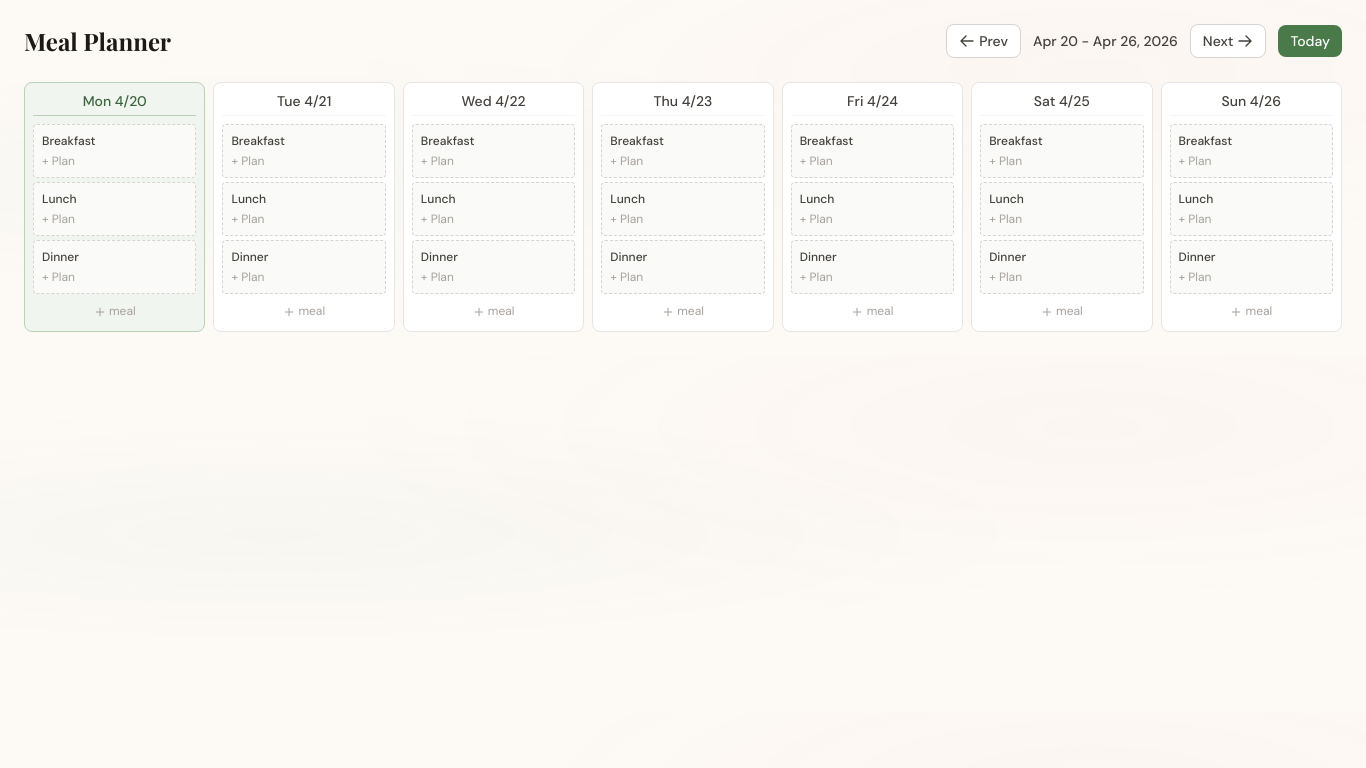
Test: MealPlanner — plan a meal on a day slot › creates a meal from an empty slot, closes the editor, and renders it back in the grid
Click the button "Dinner + Plan" below "Mon 4/20". click: x=115, y=267
box: [33,240,196,294]
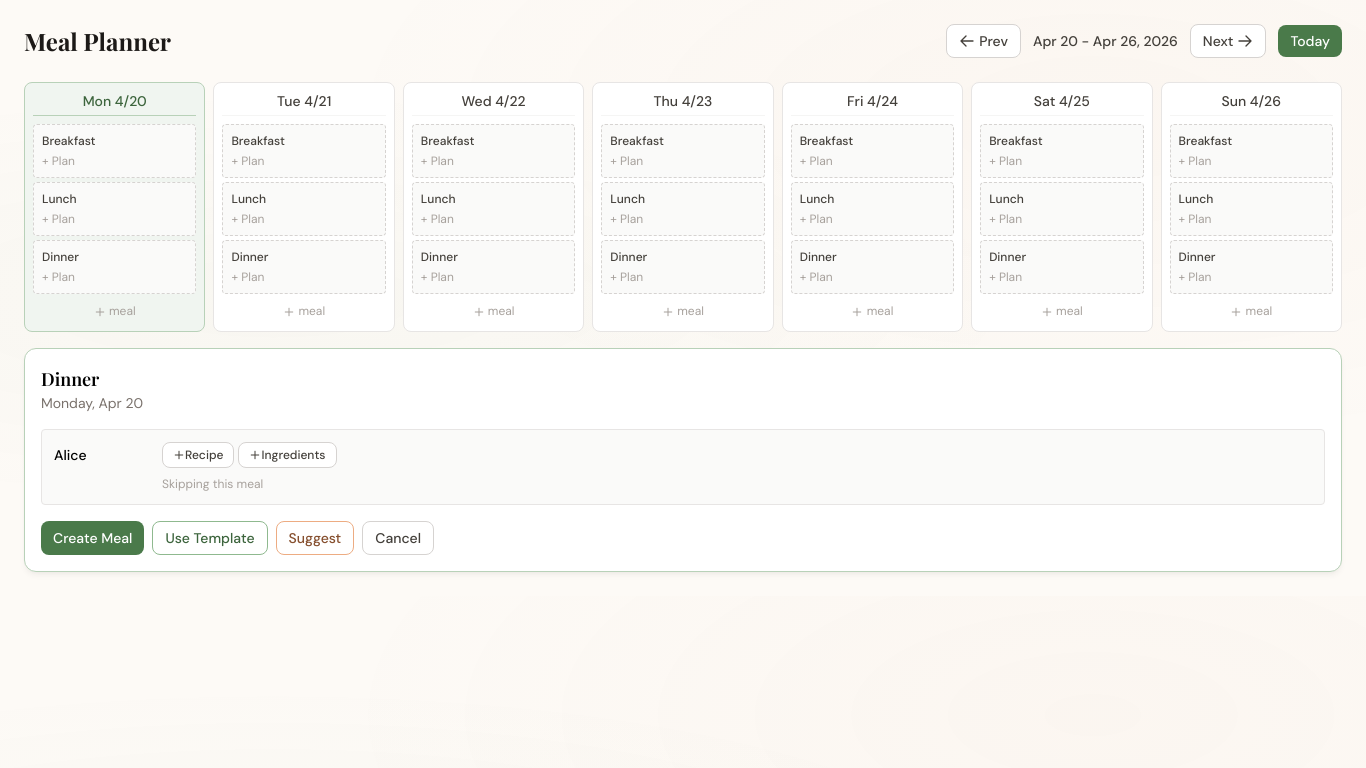
Expected: the button "Create Meal" is shown, [41,521,144,555]
Click the button "Recipe". click: x=198, y=455
box: [162,442,234,468]
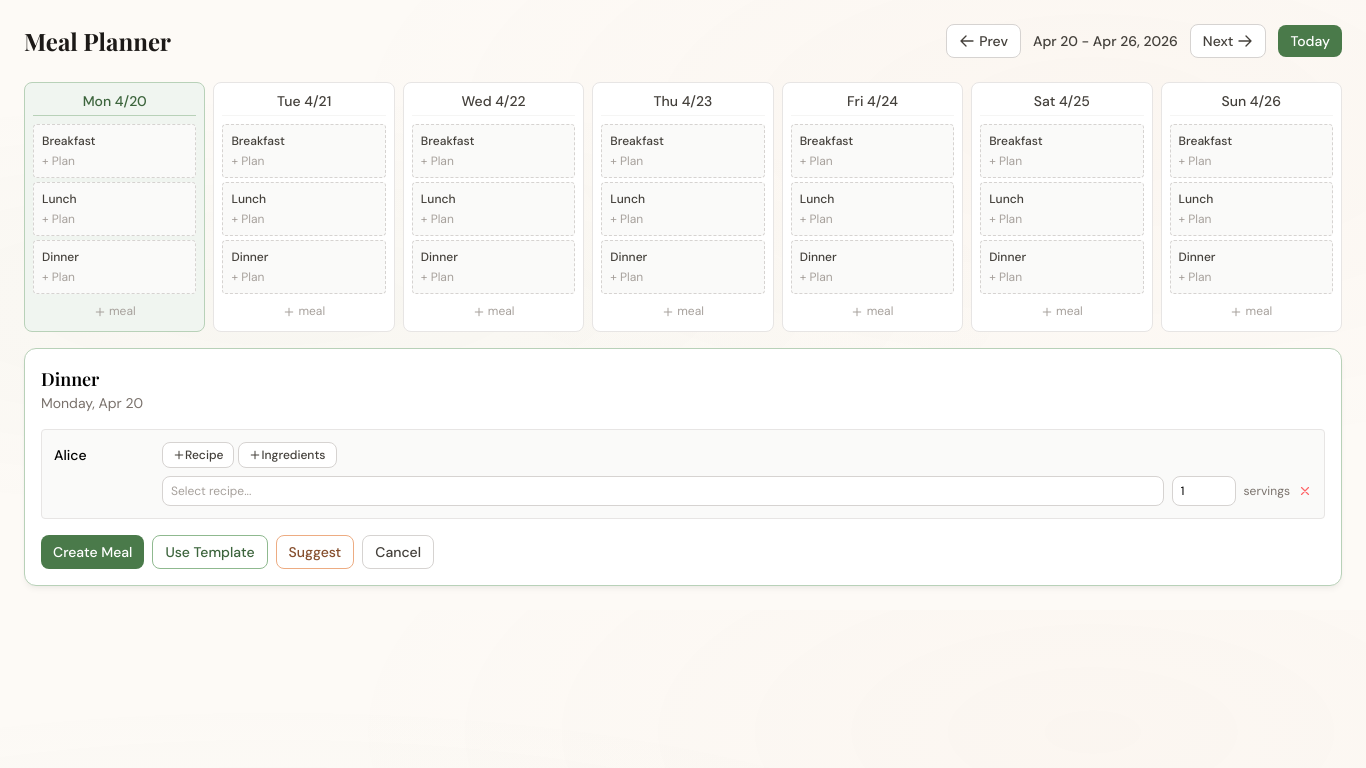
Pick Pasta in the recipe combobox (only combobox on the screen).
Focus the dropdown. click: x=663, y=491
box: [162,476,1164,506]
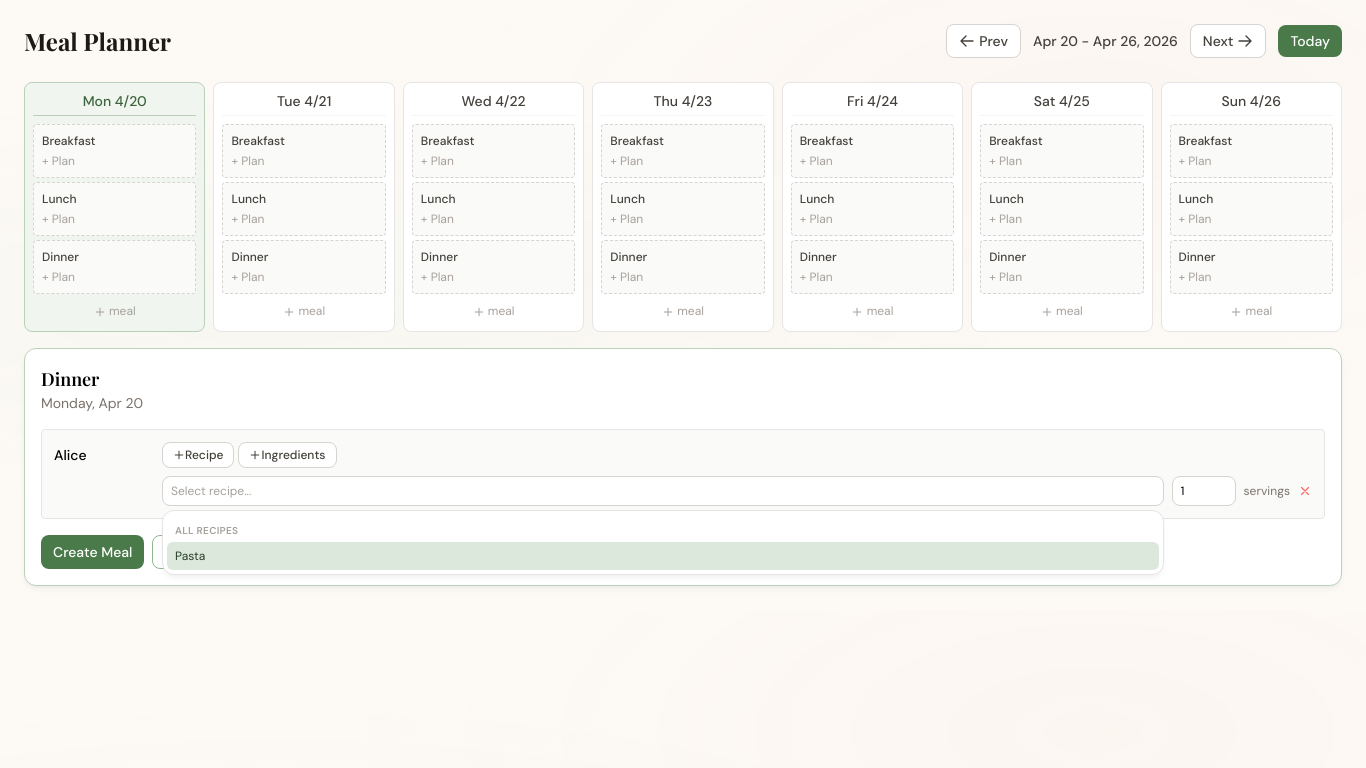
Click the option "Pasta". click: x=190, y=556
box: [167,542,1159,570]
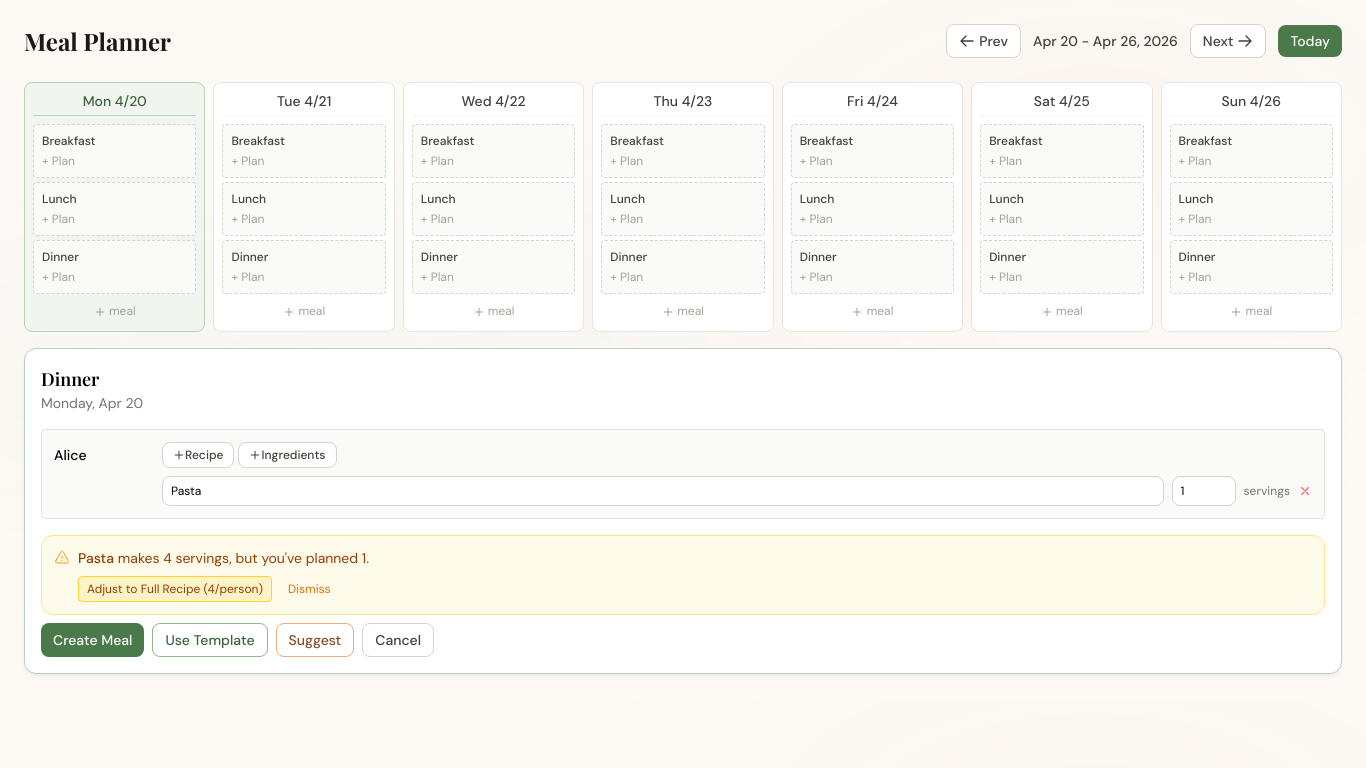
Click the button "Create Meal". click: x=93, y=640
box: [41,623,144,657]
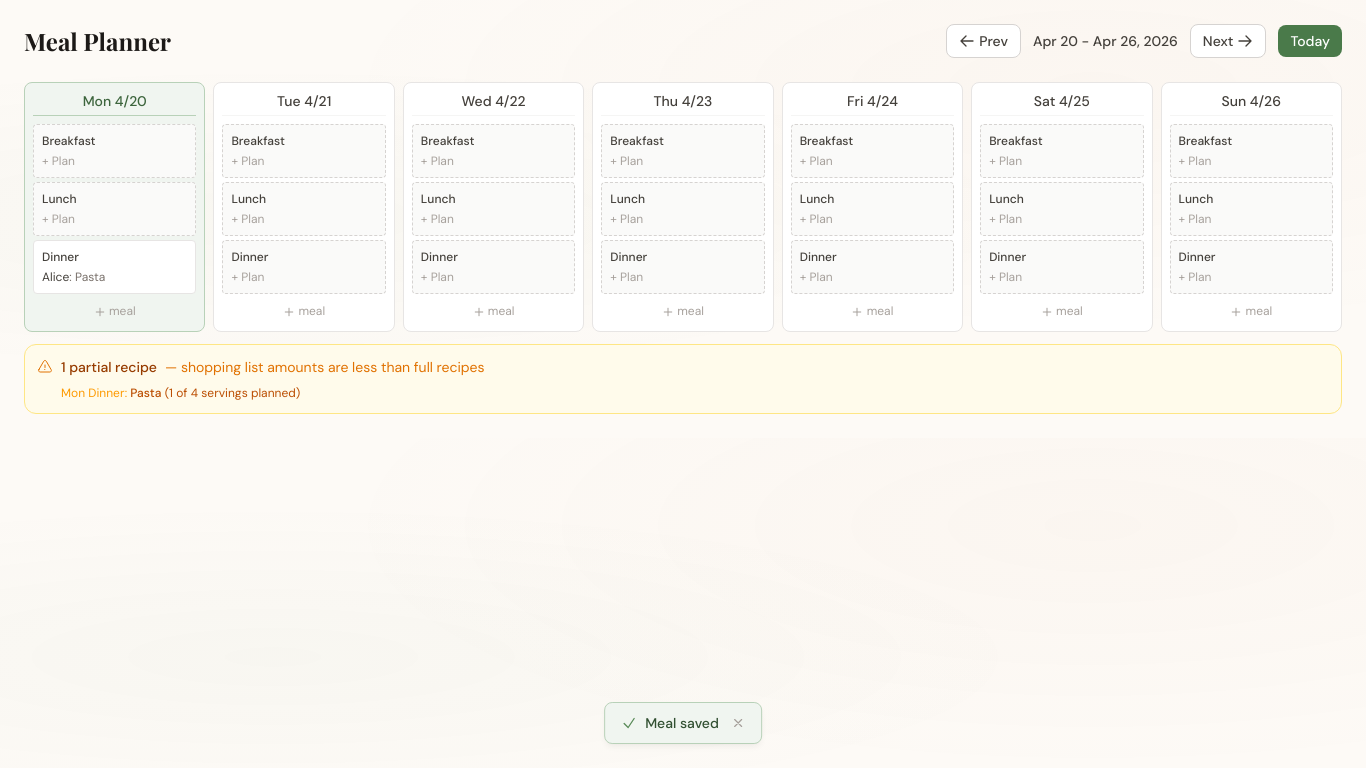
Expected: the text "Alice" is shown, [42,269,69,285]
Expected: the button "Create Meal" is gone
Expected: the text "Alice: Pasta" is shown, [42,269,105,285]
